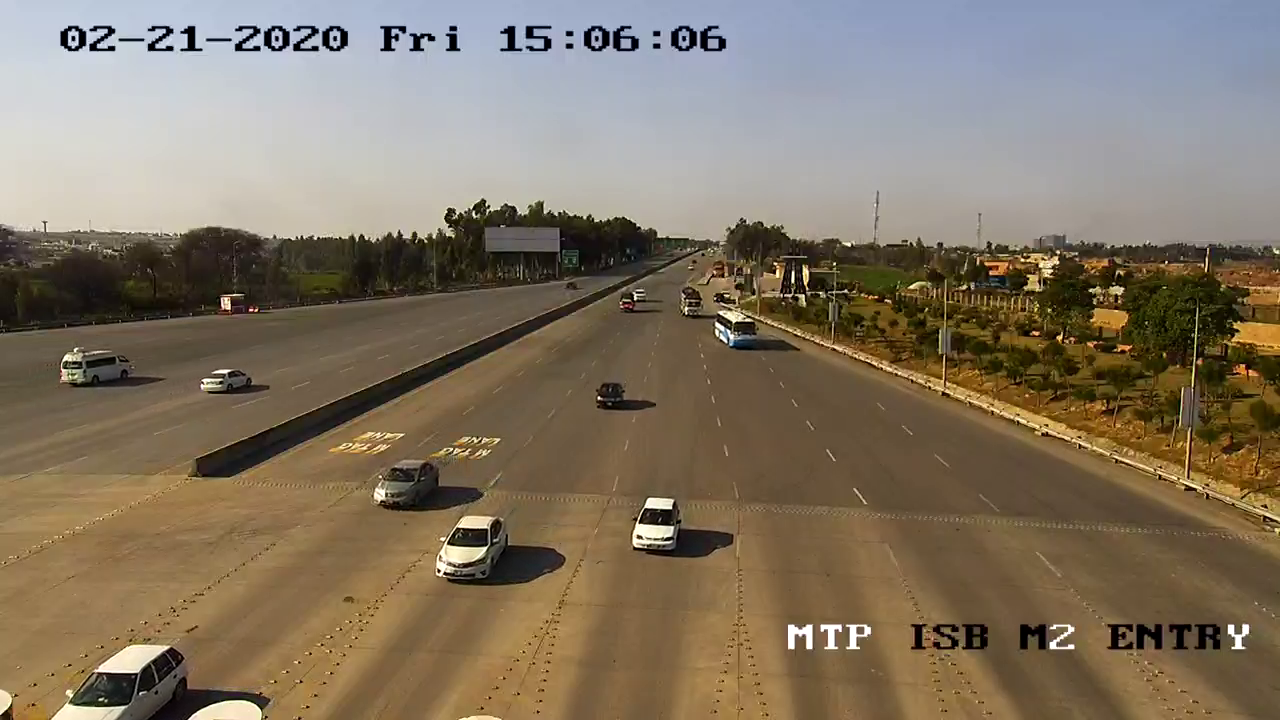f1: (428, 503, 511, 588), (617, 488, 691, 563), (363, 452, 448, 516)
